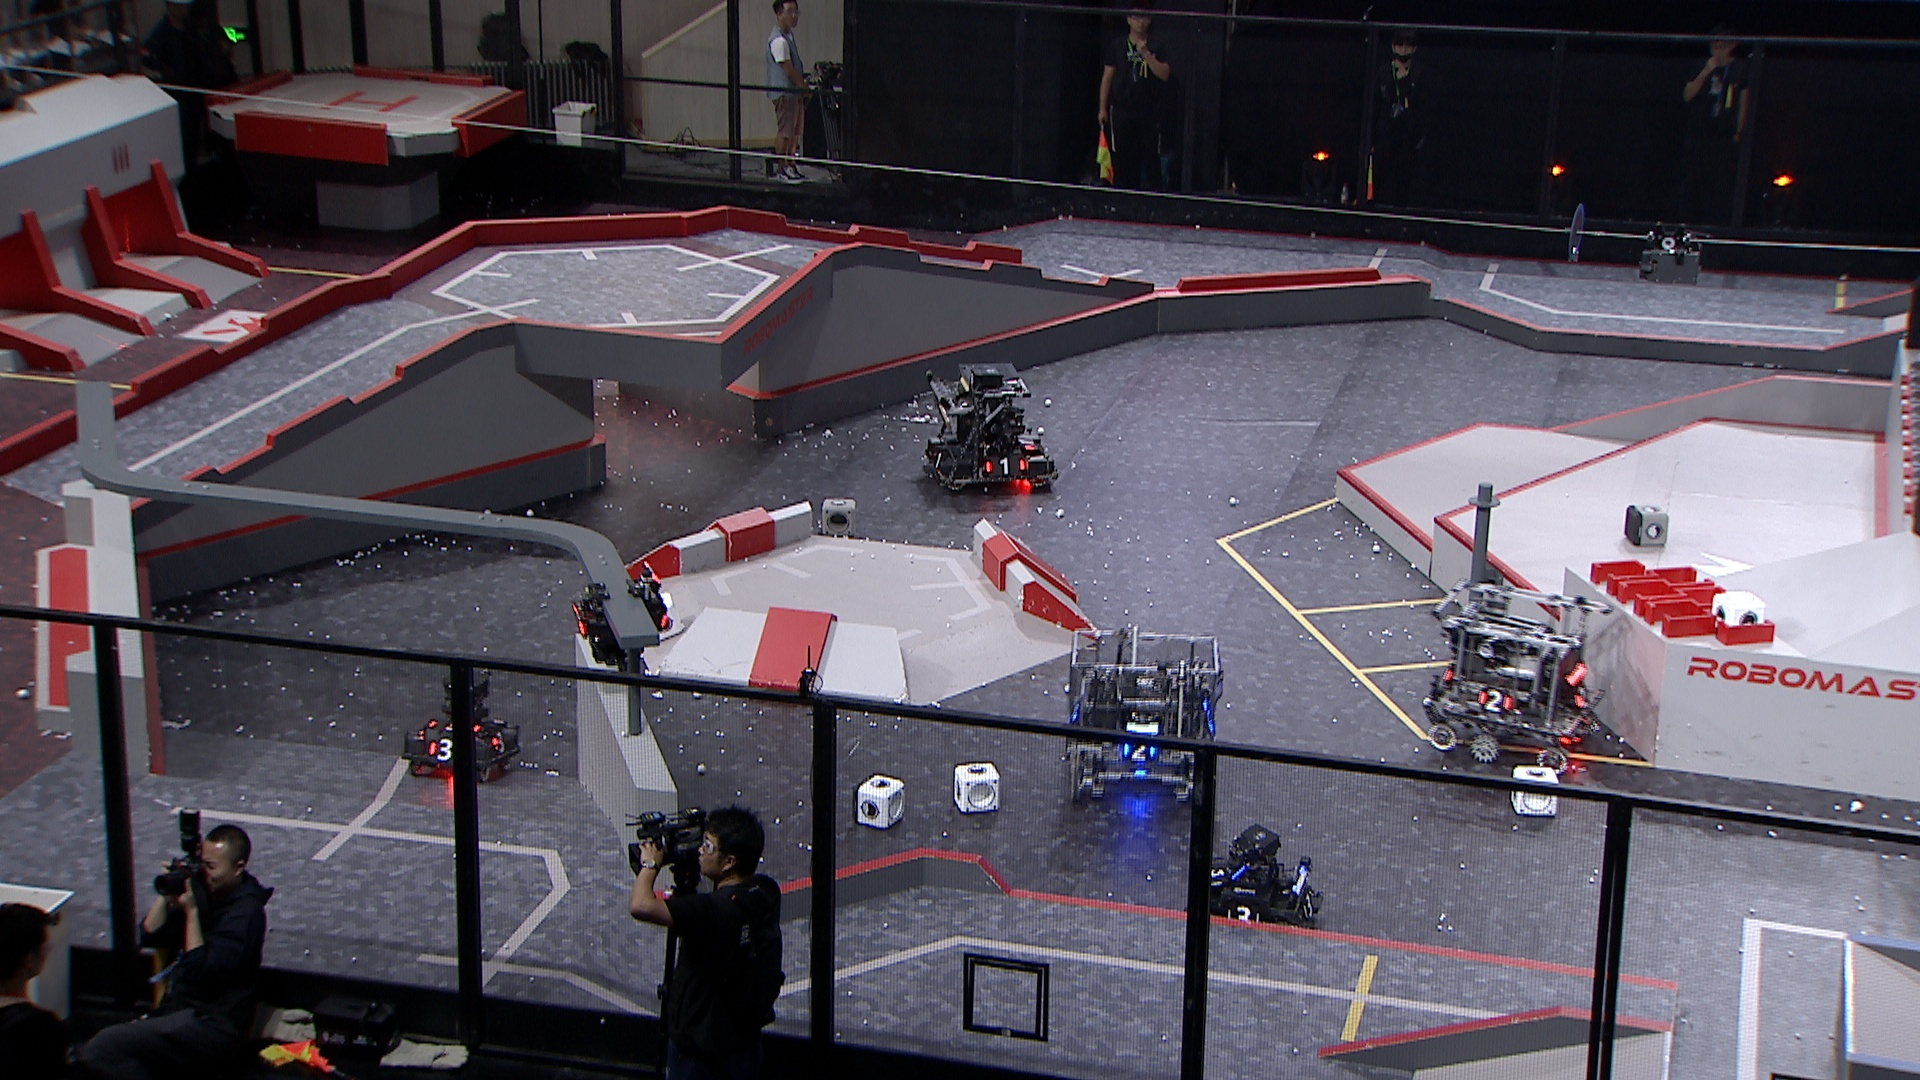armor: (1477, 688, 1514, 716), (1120, 740, 1158, 765), (984, 456, 1026, 476), (427, 738, 458, 764), (570, 604, 588, 638), (1225, 907, 1262, 924), (1572, 687, 1593, 712), (491, 731, 512, 754), (930, 448, 949, 471), (1302, 891, 1316, 922), (1211, 868, 1229, 889), (1017, 436, 1038, 452)
car: (1424, 578, 1619, 775), (1065, 622, 1221, 806), (1183, 823, 1327, 949), (920, 361, 1055, 496), (400, 665, 524, 782)
watcher: (570, 560, 674, 669)
